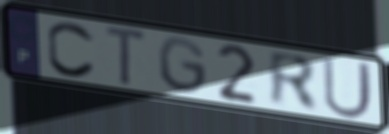2: (213, 42, 263, 107)
C: (45, 19, 98, 80)
G: (156, 34, 210, 97)
R: (265, 48, 322, 115)
T: (103, 22, 150, 89)
U: (320, 55, 375, 121)
